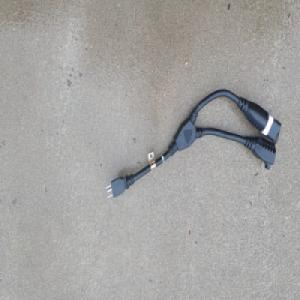Wire: (105, 87, 283, 200)
